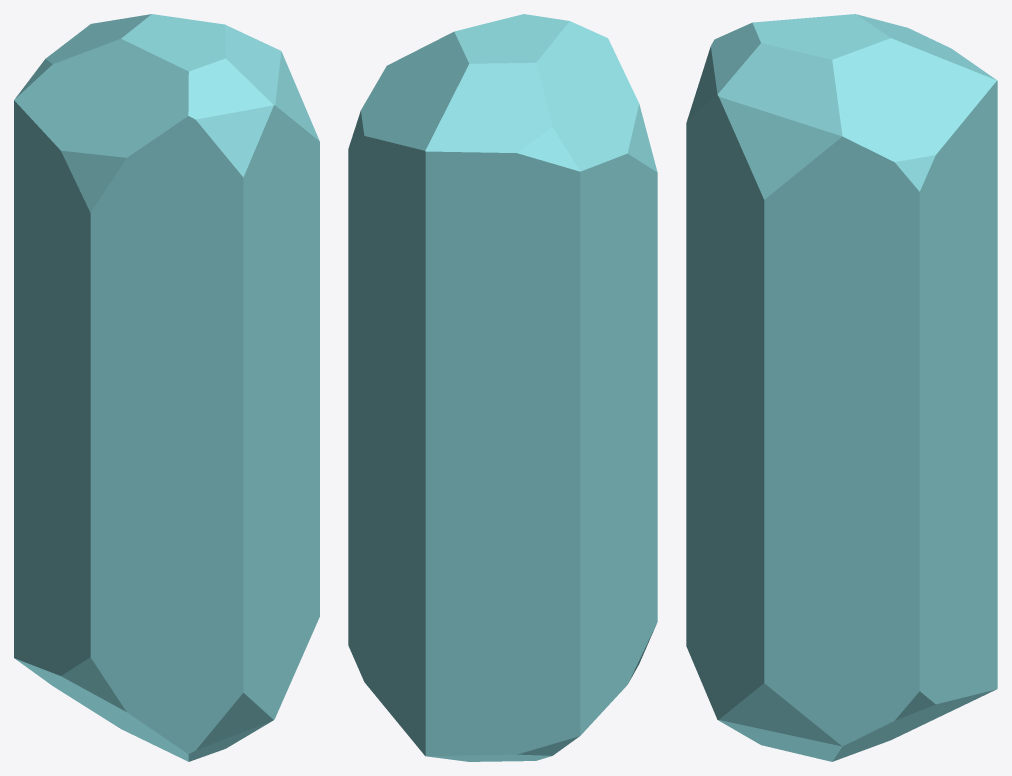
File: Scanner.fbx
3 views of the same model, side by side, from view 1: azimuth 30°, elevation 25°; view 2: azimuth 150°, elevation 25°; view 3: azimuth 270°, elevation 25° (orthographic).
Parts seen in each view (by area): view 1: Cylinder.011; view 2: Cylinder.011; view 3: Cylinder.011.
Boxes of the visible parts, x1,y1,x2,y2 form: Cylinder.011: [14, 14, 319, 761]; Cylinder.011: [348, 14, 657, 761]; Cylinder.011: [686, 14, 997, 761].
Size of the model in its own units: 6.35 by 18.25 by 7.33.
